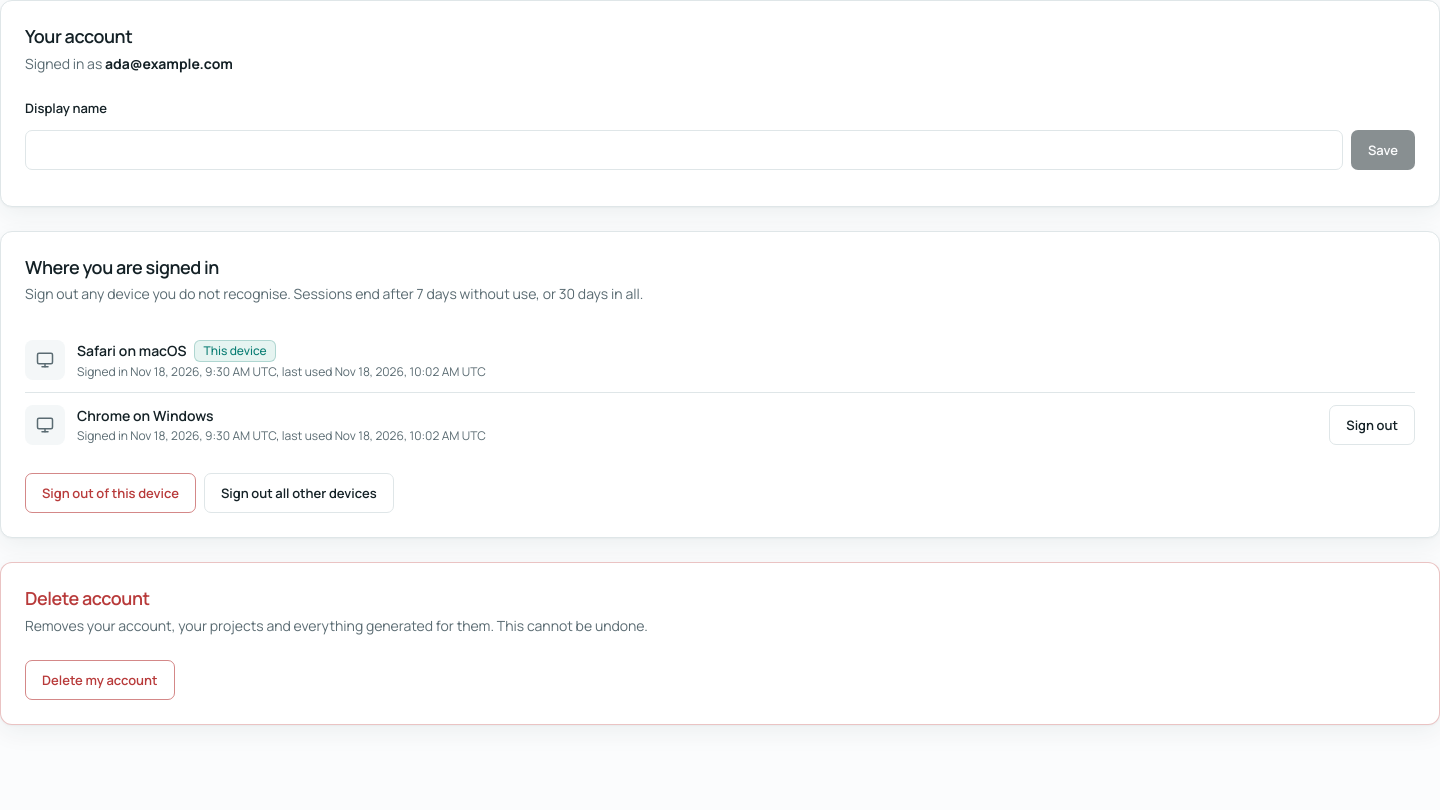
Test: AccountView › revokes another session and reloads the list
The width and height of the screenshot is (1440, 810).
Click the button with aria-label "sign out chrome on windows".
click(1372, 425)  # box [1329,405,1415,445]
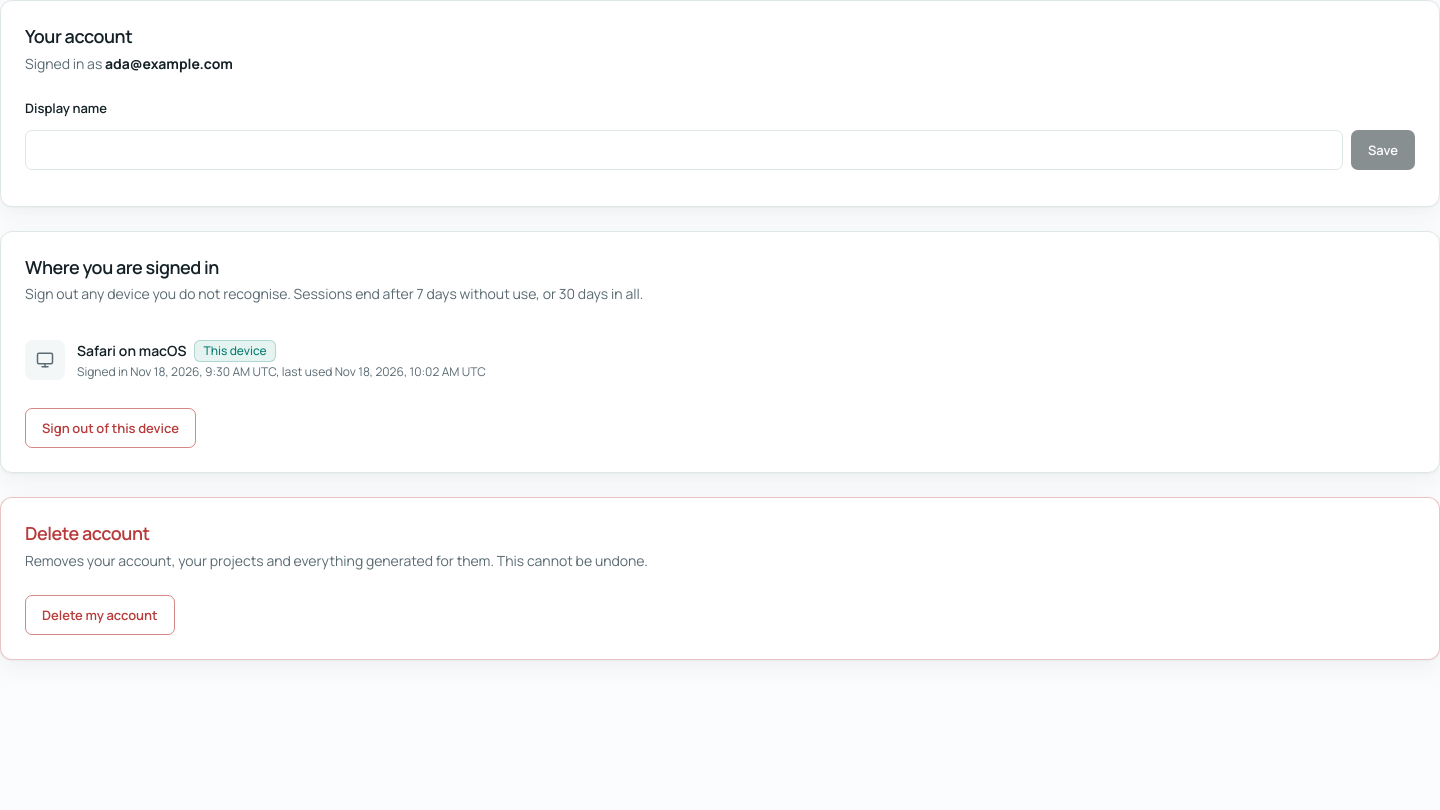
Result: the text "Chrome on Windows" is gone
